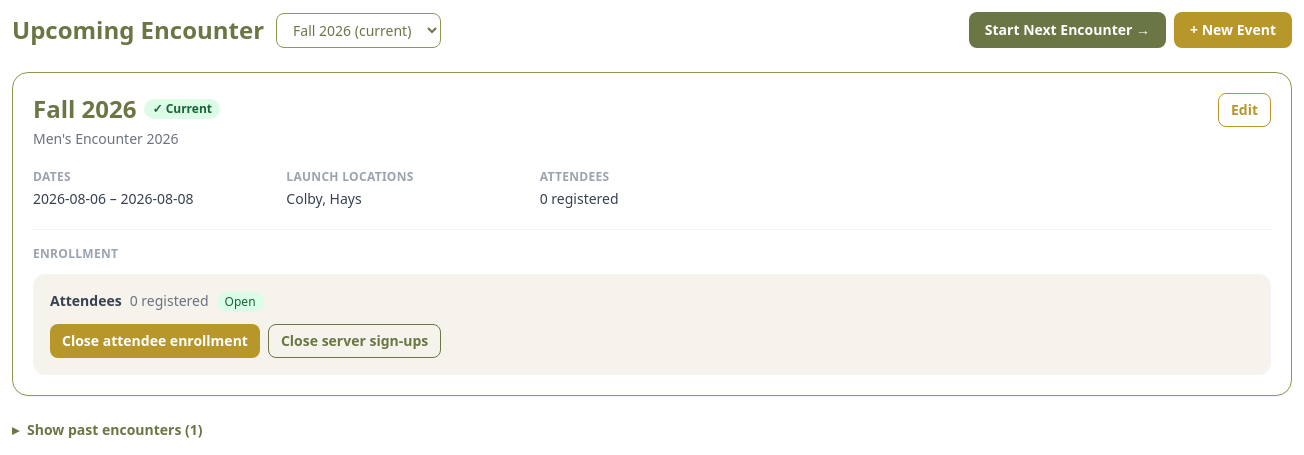
Scenario: Events page › the picker lists every encounter and switching one changes the panel
Check: the heading "Fall 2026" is shown, box left=33, top=93, right=136, bottom=125
Select "Spring 2025" in the dropdown named "Encounter": (359, 30) left=276, top=12, right=441, bottom=48
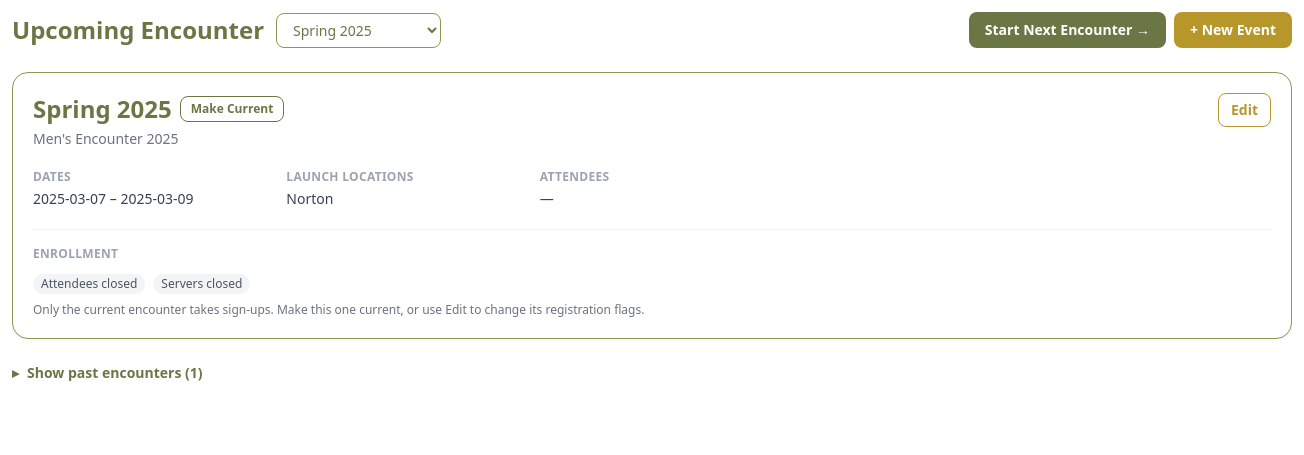
Check: the button with aria-label "edit Spring 2025" is shown, box left=1218, top=93, right=1271, bottom=127
Check: the heading "Spring 2025" is shown, box left=33, top=93, right=172, bottom=125
Check: the heading "Fall 2026" is gone
